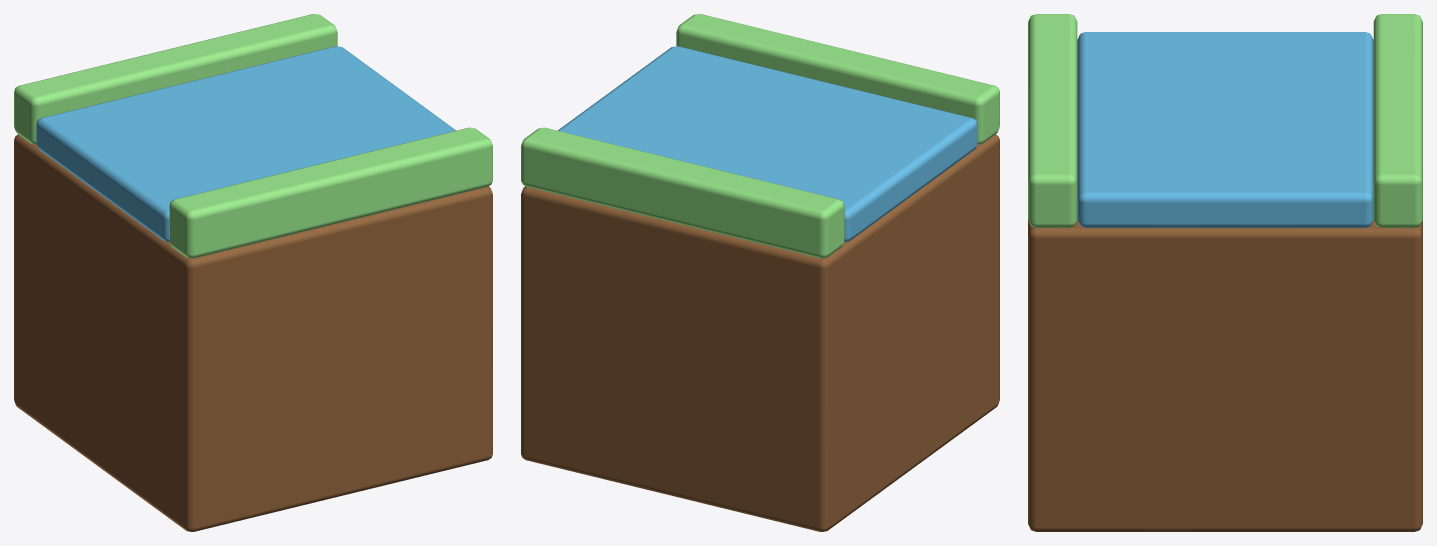
The model's file is Water Tile - Straight - 1x1.glb.
3 renders of one model, left to right at view 1: azimuth 30°, elevation 25°; view 2: azimuth 150°, elevation 25°; view 3: azimuth 270°, elevation 25°, orthographic. The views are drawn at different scales.
Parts seen in each view (by area): view 1: Water Path - Horizontal; view 2: Water Path - Horizontal; view 3: Water Path - Horizontal.
Boxes of the visible parts, x1,y1,x2,y2 form: Water Path - Horizontal: (14, 14, 492, 531); Water Path - Horizontal: (521, 14, 999, 531); Water Path - Horizontal: (1028, 14, 1422, 531).
Size of the model in its own units: 2 by 2 by 2.
